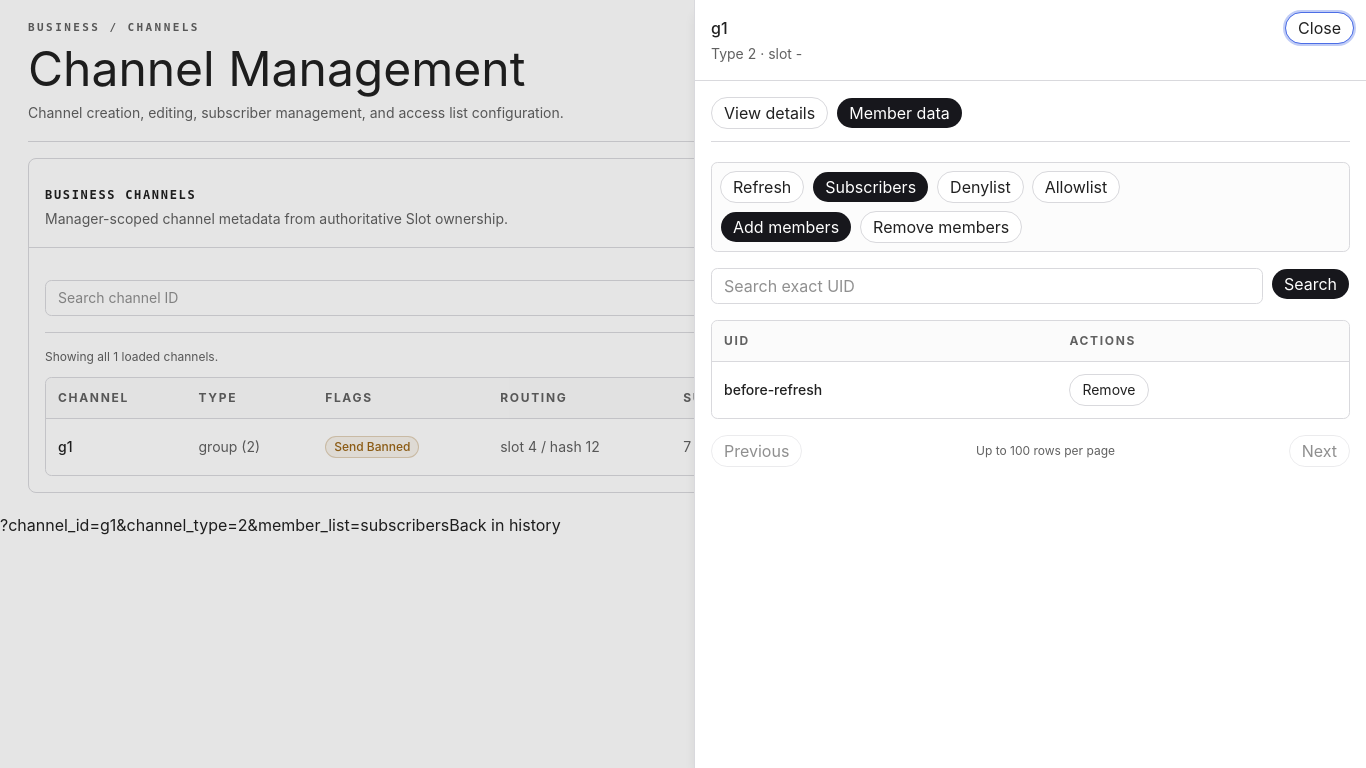
Scenario: manually refreshes the active authoritative member page
The image size is (1366, 768).
Expected: the link "before-refresh" is shown, 724,381 -> 822,398
Click the button with aria-label "Refresh member data" at (762, 187), box 720,171 -> 804,203
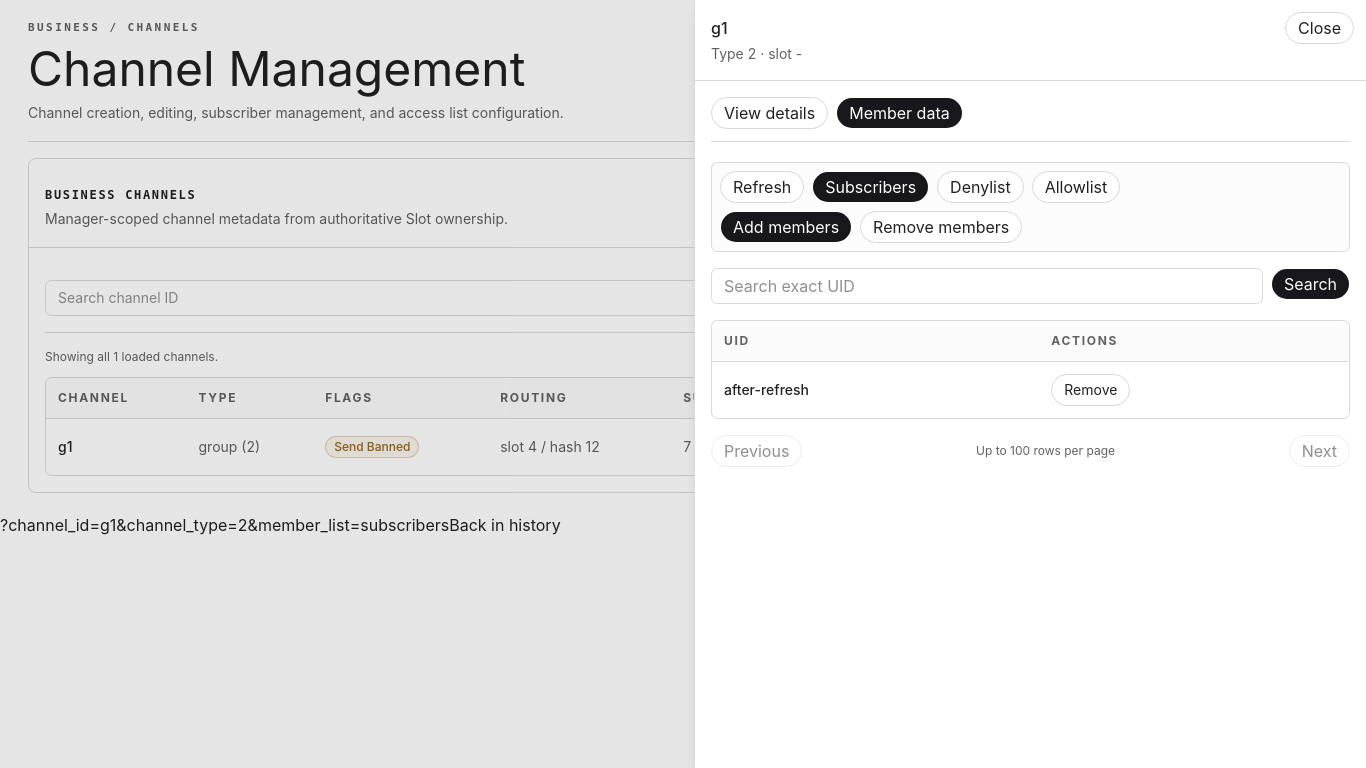
Expected: the link "after-refresh" is shown, 724,381 -> 809,398
Expected: the link "before-refresh" is gone
